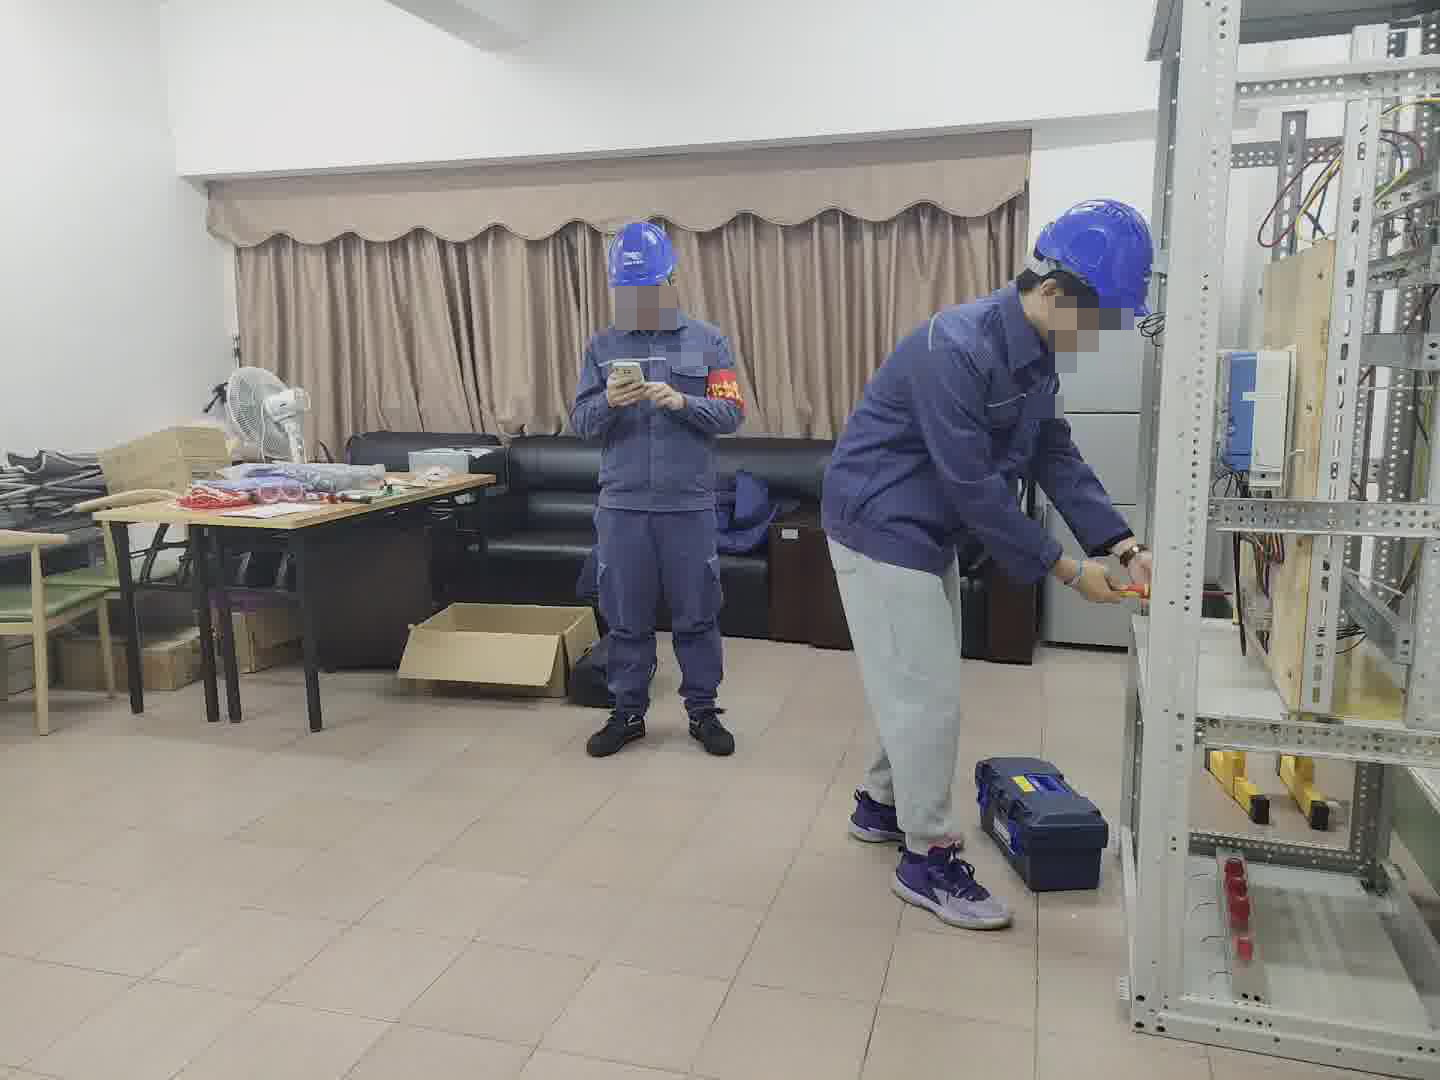badge: (702, 369, 749, 418)
downcloth: (820, 530, 979, 866)
downsuit: (585, 504, 734, 716)
halt: (1026, 195, 1159, 356), (601, 216, 685, 319)
hand: (1071, 556, 1131, 616), (608, 372, 651, 418), (649, 376, 688, 419)
noear: (1028, 266, 1071, 351)
person: (818, 190, 1165, 918), (563, 213, 751, 753)
upsuit: (824, 279, 1117, 560), (570, 309, 750, 505)
